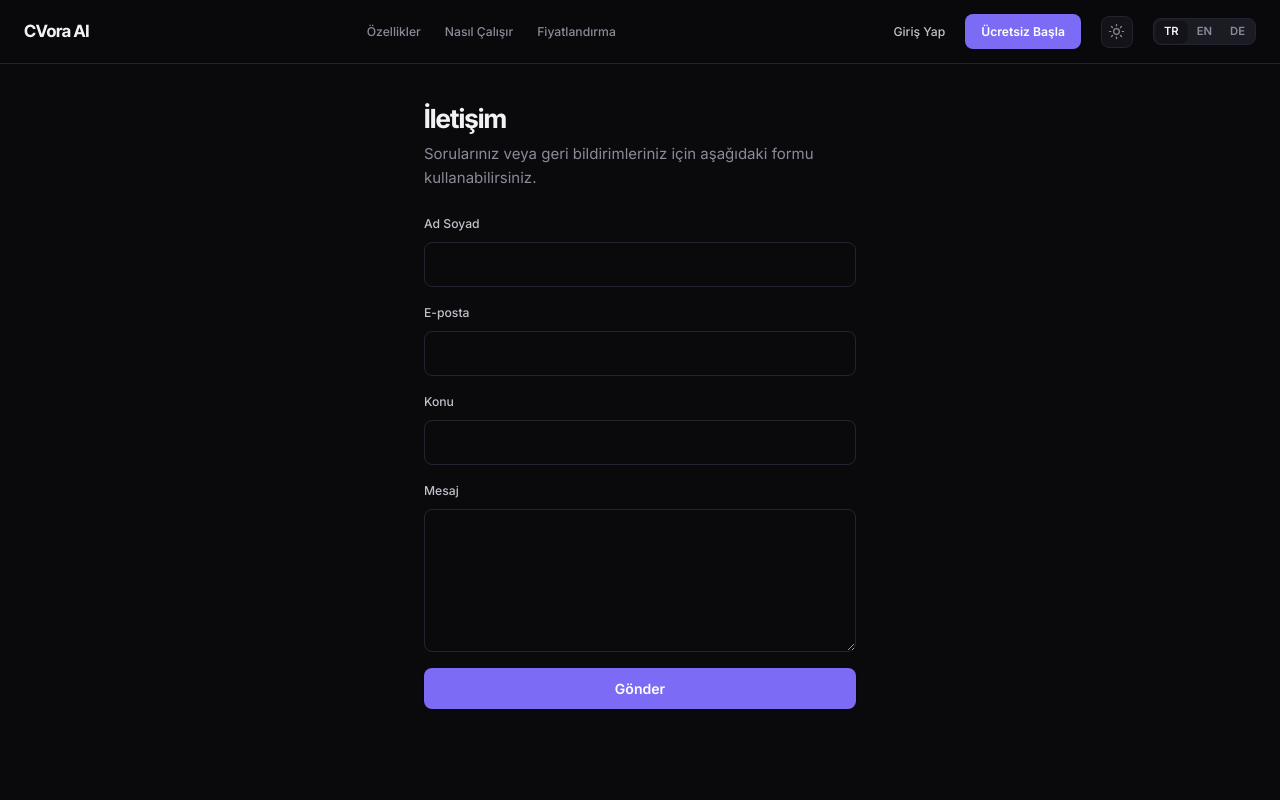
Test case: ContactPage › shows a success message only after the backend genuinely confirms the message was received
Step 1. Type "Ada Lovelace" into the field labelled "Ad Soyad" → (640, 264), box [424,242,856,287]
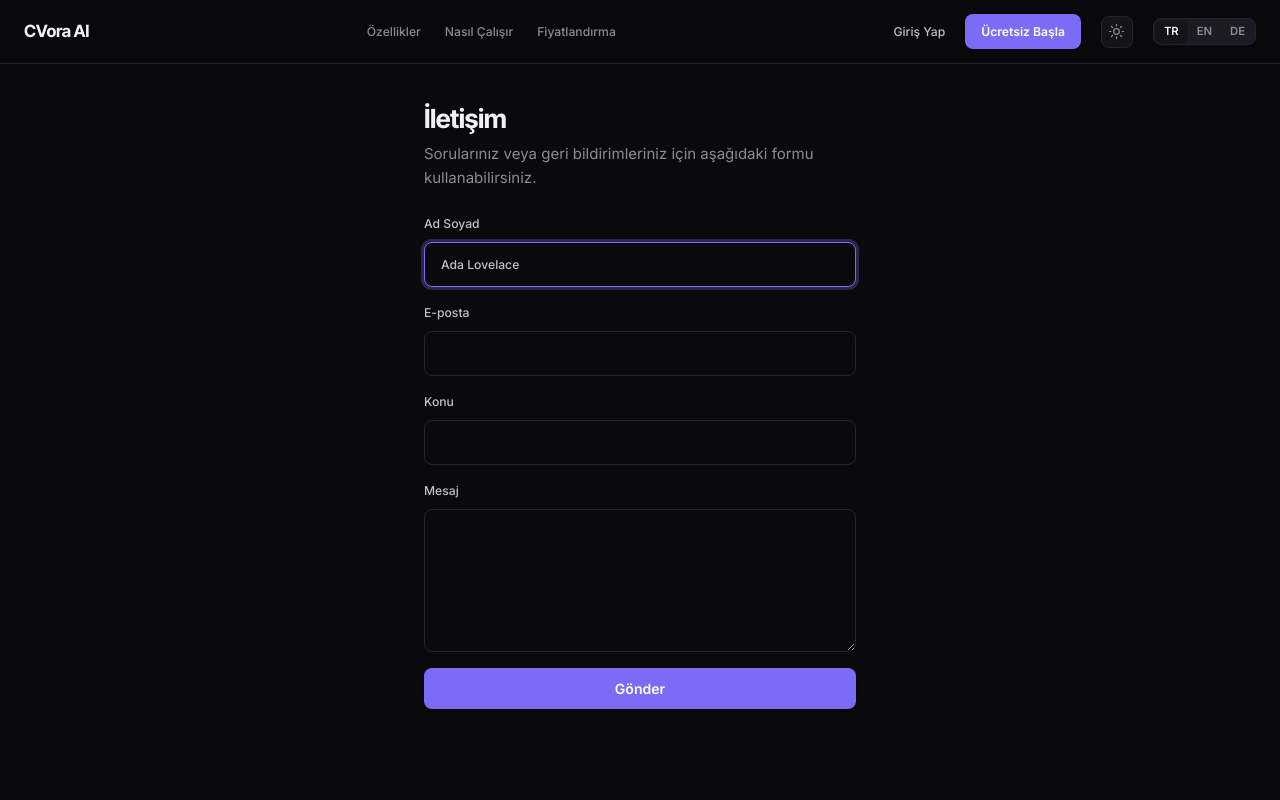
Step 2. Type "ada@example.com" into the field labelled "E-posta" → (640, 353), box [424,331,856,376]
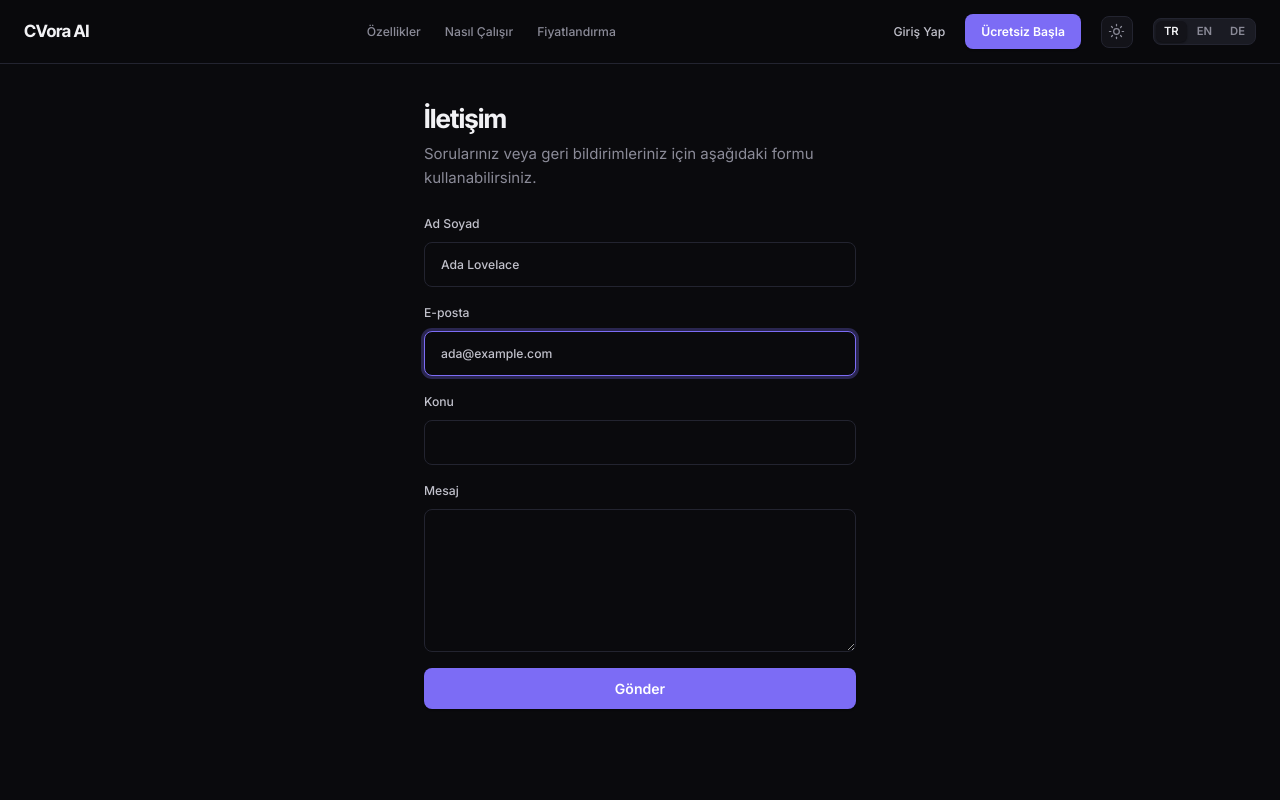
Step 3. Type "Soru" into the field labelled "Konu" → (640, 442), box [424,420,856,465]
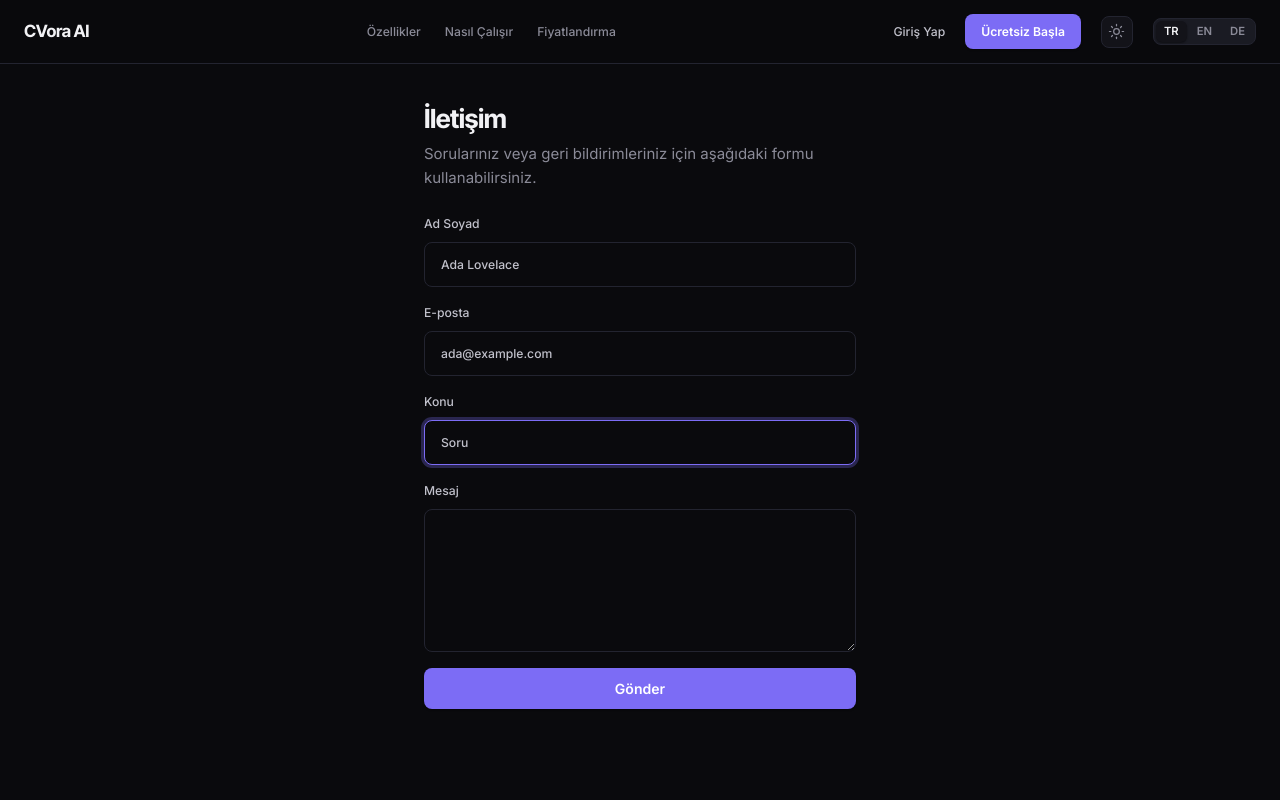
Step 4. Type "Merhaba, bir sorum var." into the text box labelled "Mesaj" → (640, 580), box [424,509,856,652]
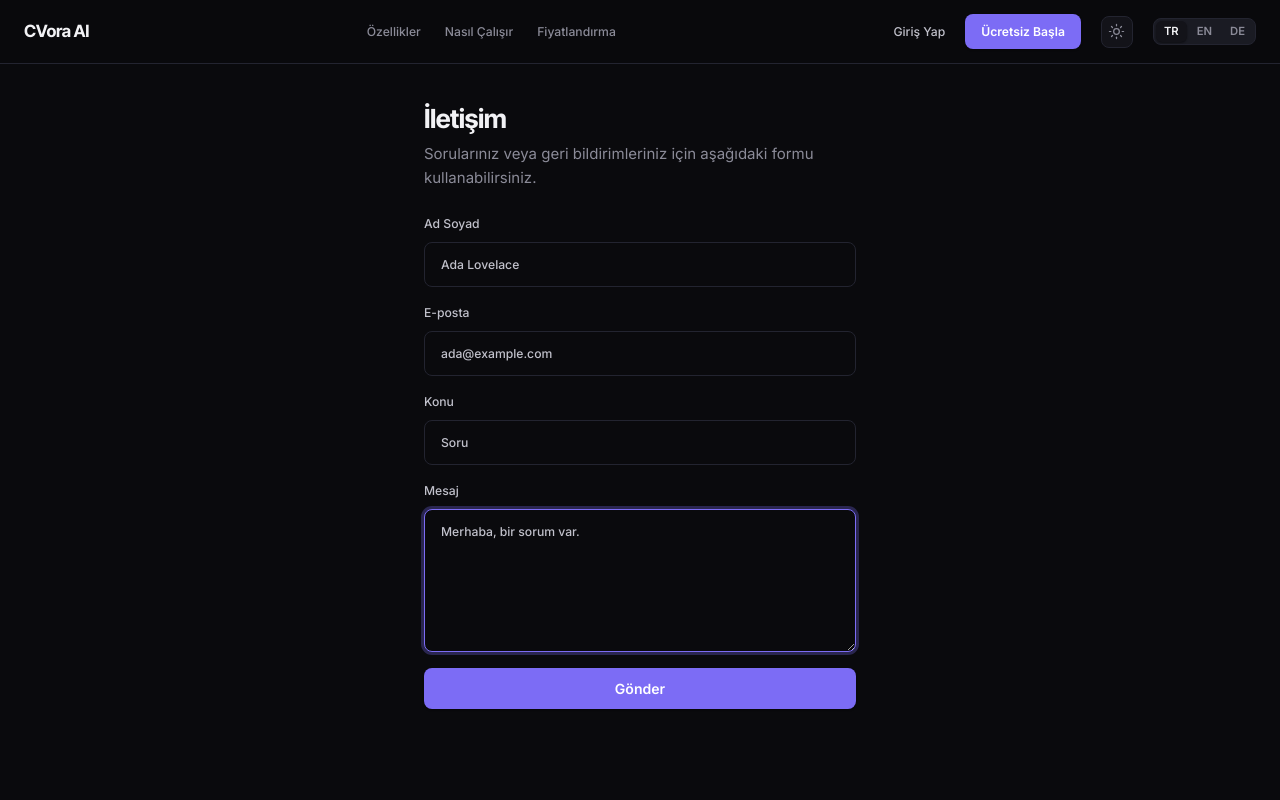
Step 5. Click the button "Gönder" → (640, 688), box [424,668,856,709]
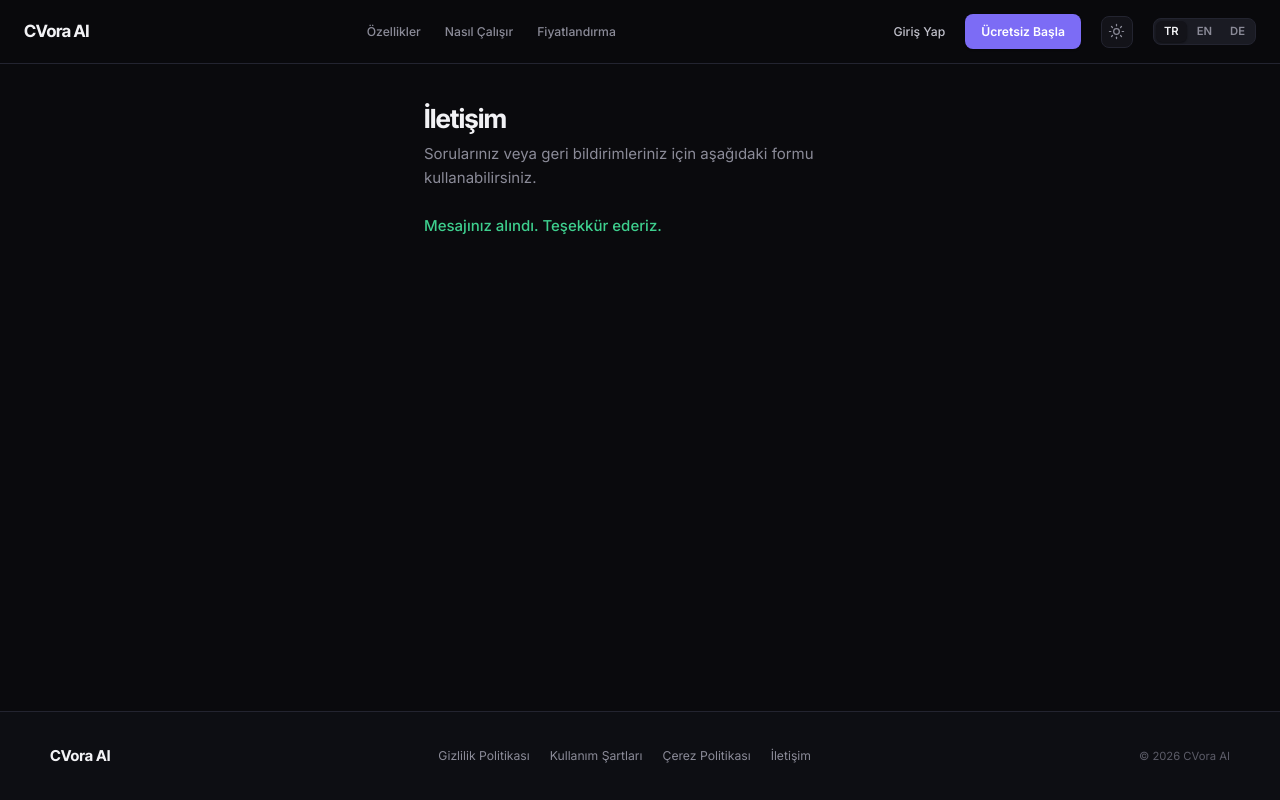
expect the text "Mesajınız alındı. Teşekkür ederiz." is shown: met, box [424,216,662,235]
